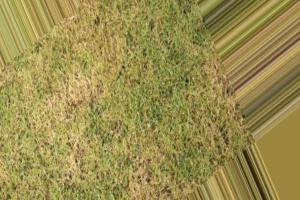patch: (91, 138, 151, 184), (171, 53, 219, 106), (159, 124, 209, 173), (41, 149, 83, 191), (109, 78, 146, 124), (61, 76, 97, 122), (15, 98, 47, 140), (212, 116, 247, 150), (55, 46, 107, 66), (90, 21, 134, 40), (21, 68, 36, 84), (59, 130, 72, 140)
